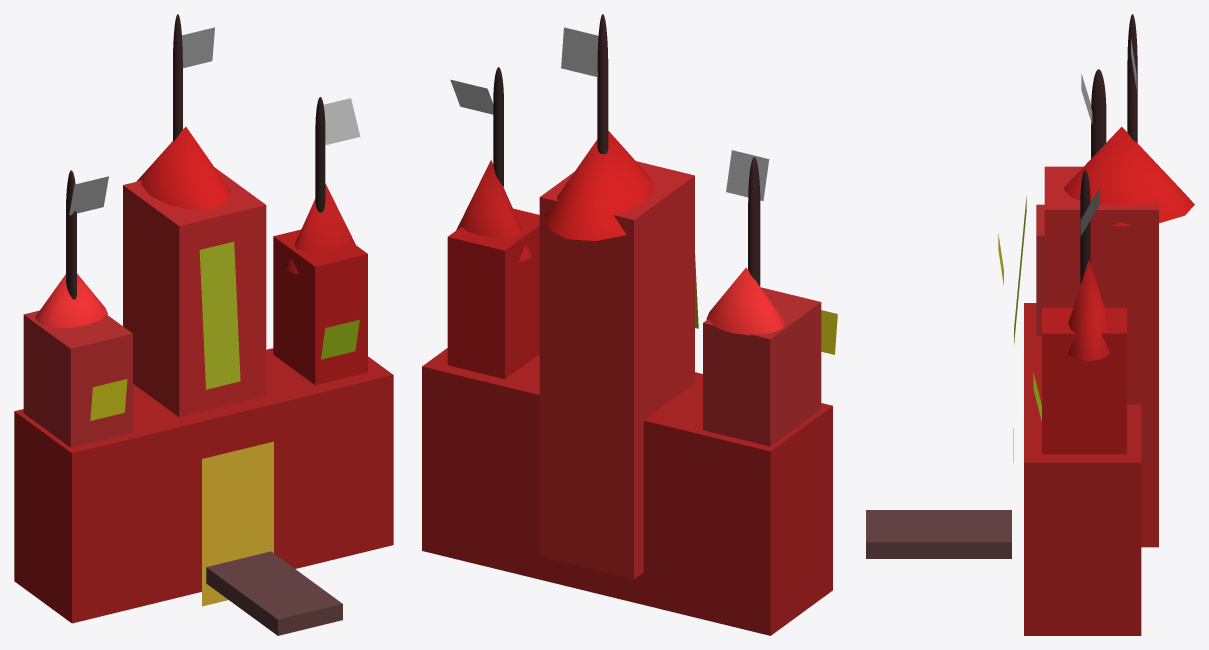
Rendered from castle.fbx.
3 views of the same model, side by side, from view 1: azimuth 30°, elevation 25°; view 2: azimuth 150°, elevation 25°; view 3: azimuth 270°, elevation 25° (orthographic). The views are drawn at different scales.
Parts seen in each view (by area): view 1: Box, Box2, Box3, Box1, Plane5, Box4, Plane7, Cone1, Cone, Cone2, Plane, Plane6 (+6 smaller); view 2: Box, Box2, Box3, Box1, Cone1, Cone, Cone2, Plane1, Capsule1, Capsule2, Plane2, Capsule (+2 smaller); view 3: Box, Box2, Box1, Box4, Cone1, Cone2, Capsule1, Capsule2, Box3, Capsule.
Boxes of the visible parts, x1,y1,x2,y2 form: Box: [14, 348, 393, 623]; Box2: [123, 167, 266, 417]; Box3: [23, 310, 132, 447]; Box1: [273, 229, 367, 385]; Plane5: [202, 441, 273, 606]; Box4: [206, 551, 342, 635]; Plane7: [199, 241, 240, 389]; Cone1: [136, 126, 230, 209]; Cone: [35, 273, 107, 328]; Cone2: [285, 183, 355, 274]; Plane: [316, 98, 360, 144]; Plane6: [90, 379, 127, 420]; Box: [422, 348, 832, 635]; Box2: [539, 161, 694, 579]; Box3: [703, 287, 821, 446]; Box1: [447, 208, 539, 379]; Cone1: [545, 131, 653, 240]; Cone: [706, 267, 784, 335]; Cone2: [456, 160, 532, 262]; Plane1: [561, 27, 598, 77]; Capsule1: [597, 14, 608, 154]; Capsule2: [748, 157, 760, 286]; Plane2: [726, 150, 769, 200]; Capsule: [493, 67, 503, 186]; Box: [1024, 303, 1141, 635]; Box2: [1044, 166, 1158, 547]; Box1: [1042, 307, 1126, 454]; Box4: [866, 510, 1011, 558]; Cone1: [1063, 126, 1194, 226]; Cone2: [1068, 260, 1109, 361]; Capsule1: [1127, 14, 1137, 142]; Capsule2: [1091, 69, 1106, 158]; Box3: [1036, 204, 1044, 336]; Capsule: [1080, 170, 1090, 284].
Bounding box in the file's own units: 37.22 × 59.9 × 32.39.
